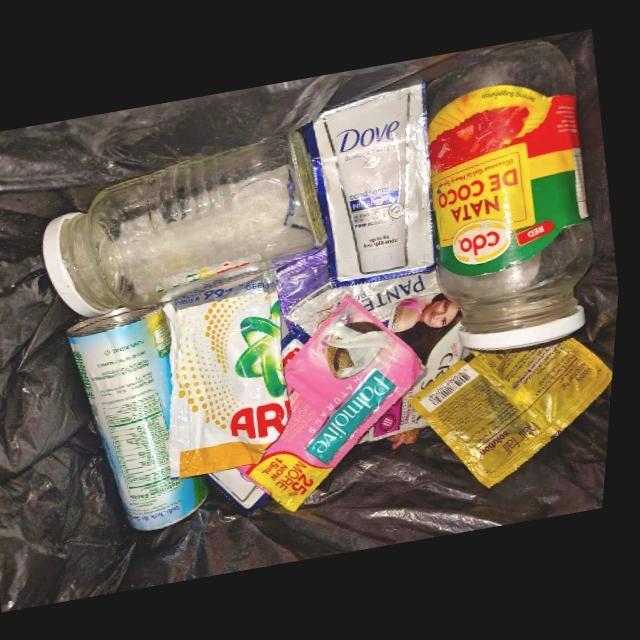aluminum: (71, 305, 216, 530)
glass_bottle: (426, 38, 598, 350), (45, 130, 331, 316)
plastic_sachet: (243, 292, 430, 511), (415, 336, 618, 487), (167, 267, 298, 478), (308, 80, 441, 287), (278, 246, 442, 335), (374, 292, 468, 441)
